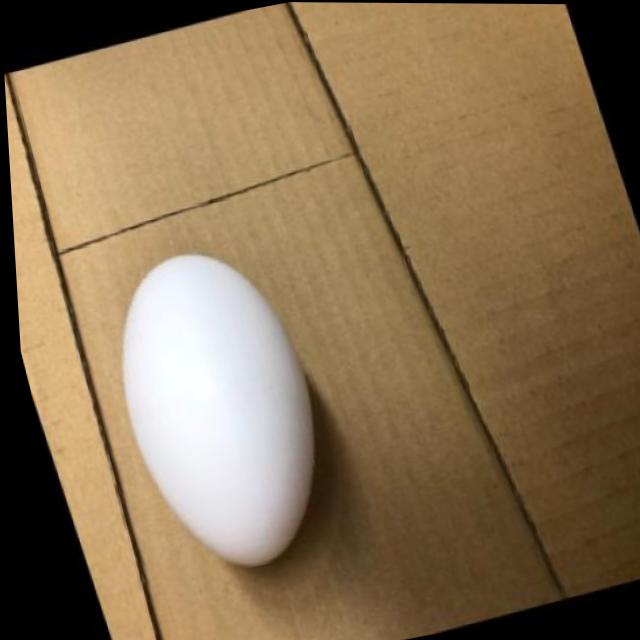egg: (81, 228, 354, 593)
